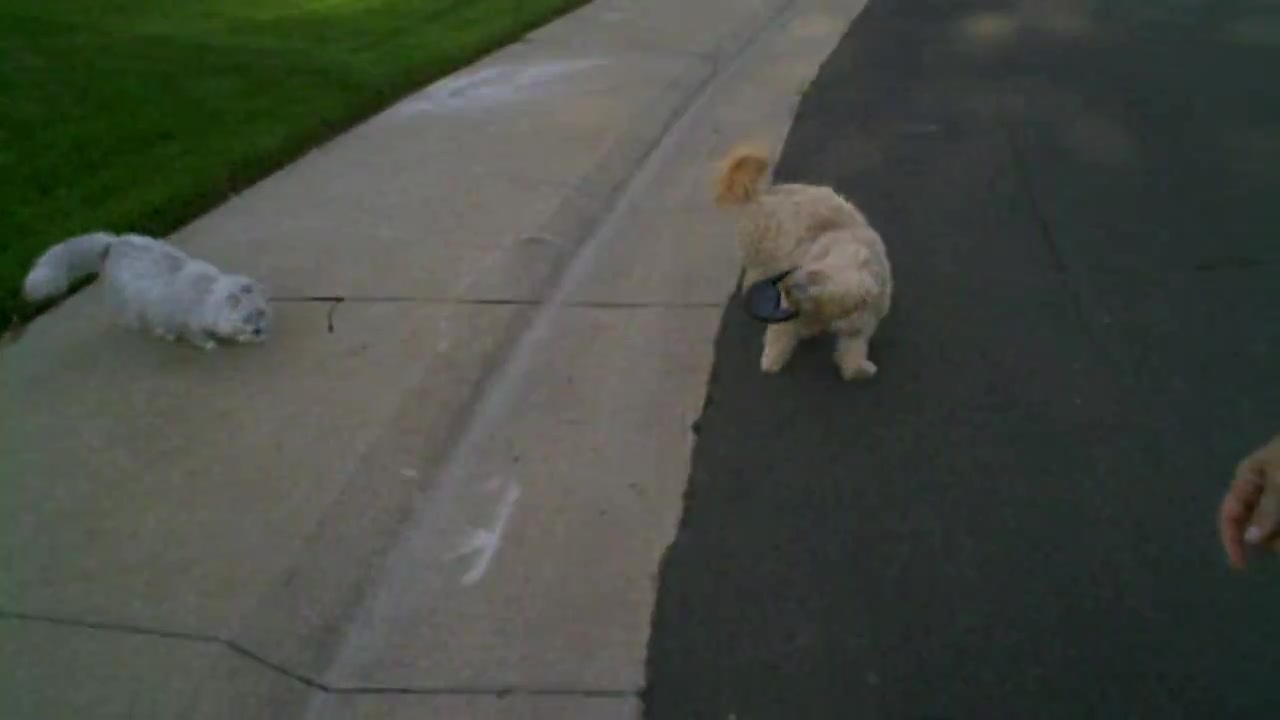dog: (719, 143, 895, 384)
